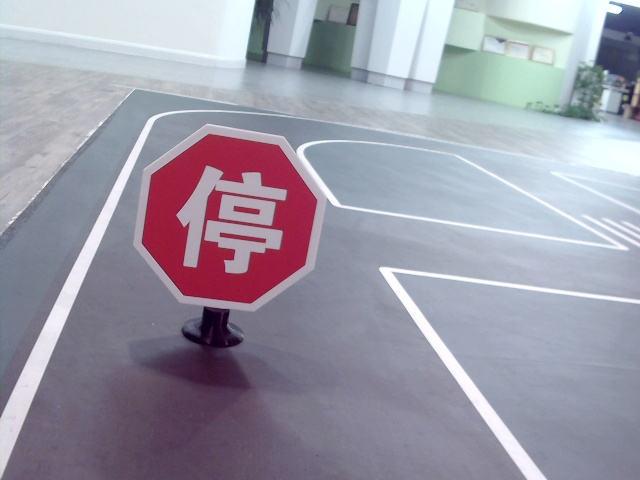stop: (175, 162, 281, 278)
